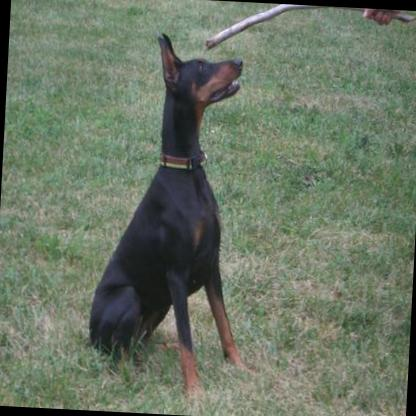Doberman: (83, 27, 260, 404)
